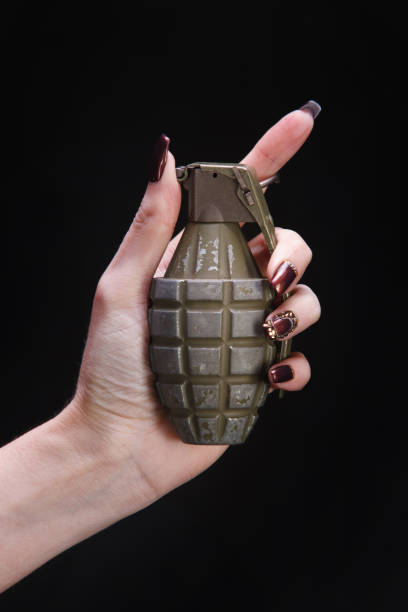e1: (146, 160, 294, 448)
